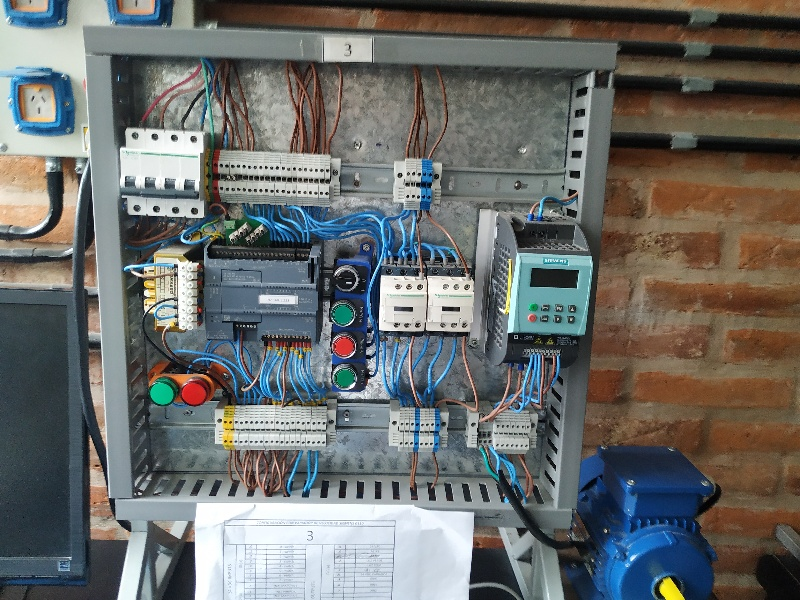Tablero 3: (113, 51, 600, 506)
